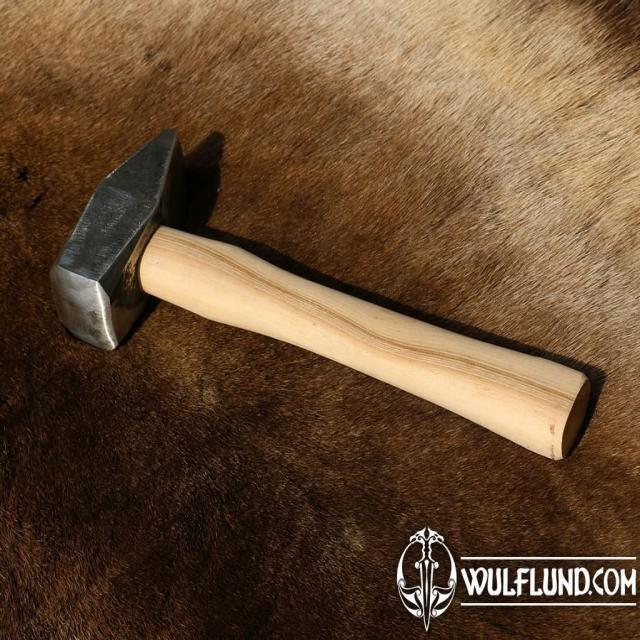hammer: (46, 123, 602, 469)
